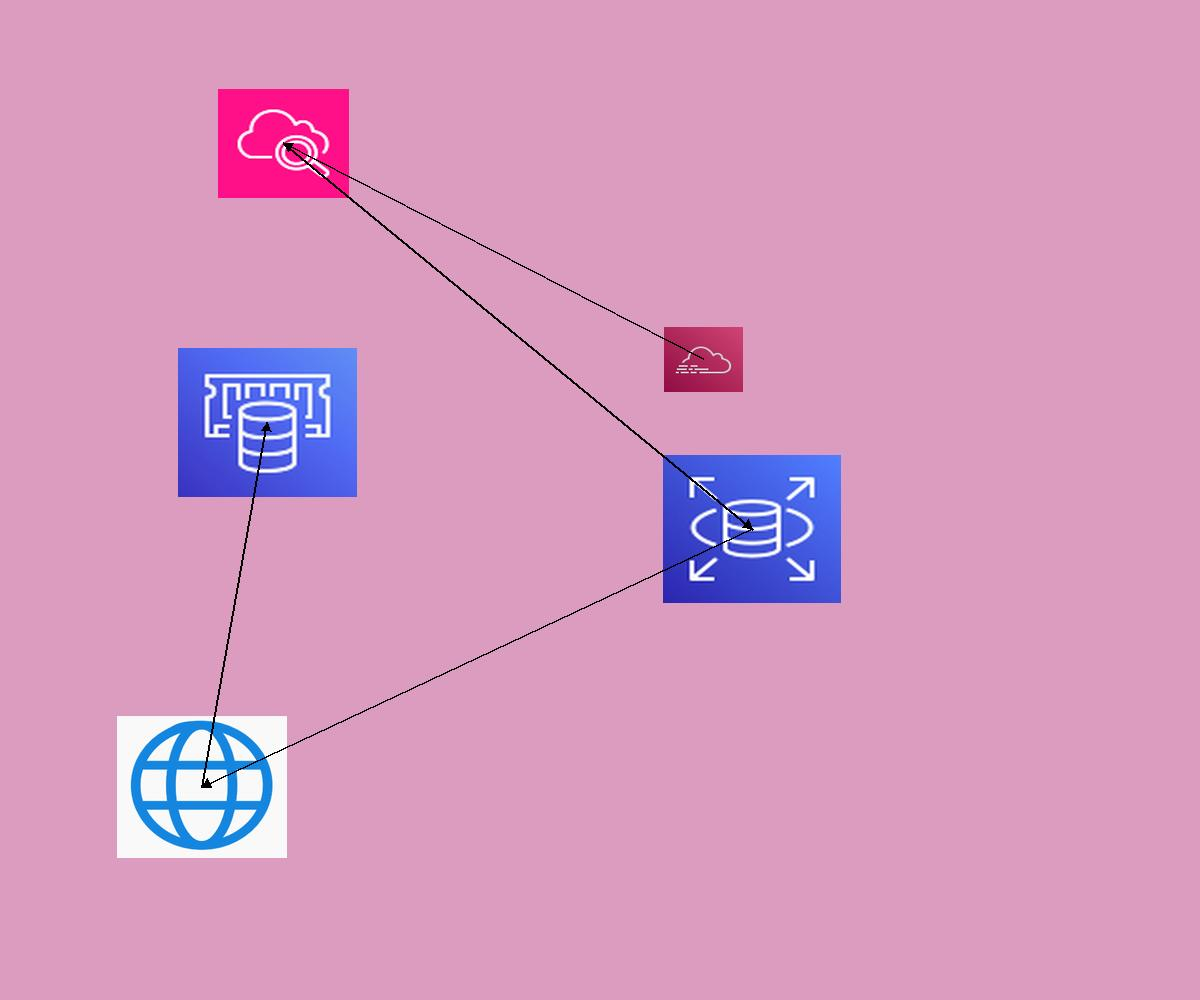AWS-CloudTrail: (664, 327, 743, 392)
AWS-CloudWatch: (218, 89, 349, 198)
AWS-ElastiCache: (178, 348, 357, 497)
AWS-RDS: (663, 455, 841, 603)
Azure_http: (117, 716, 287, 858)
